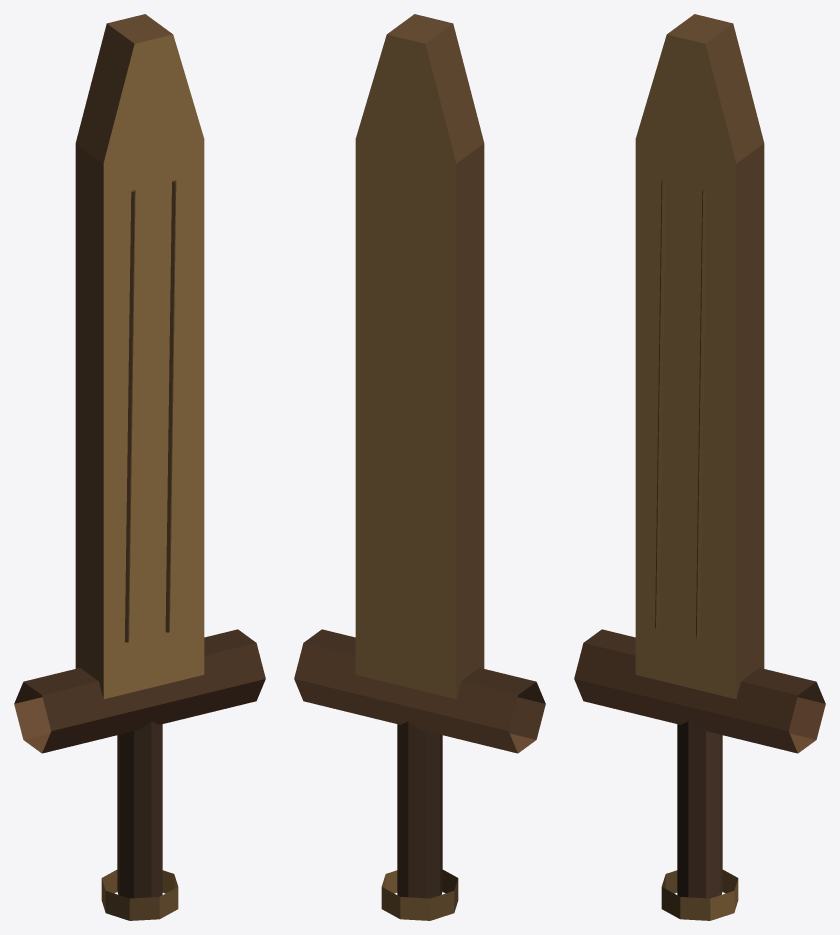
Rendered from woodenSword.glb.
3 renders of one model, left to right at view 1: azimuth 30°, elevation 25°; view 2: azimuth 150°, elevation 25°; view 3: azimuth 330°, elevation 25°, orthographic.
Parts seen in each view (by area): view 1: woodenSword; view 2: woodenSword; view 3: woodenSword.
Boxes of the visible parts, left/top/right/bottom form: woodenSword: left=14, top=14, right=265, bottom=920; woodenSword: left=294, top=14, right=545, bottom=920; woodenSword: left=574, top=14, right=825, bottom=920.
Size of the model in its own units: 0.2564 by 1 by 0.0821.
